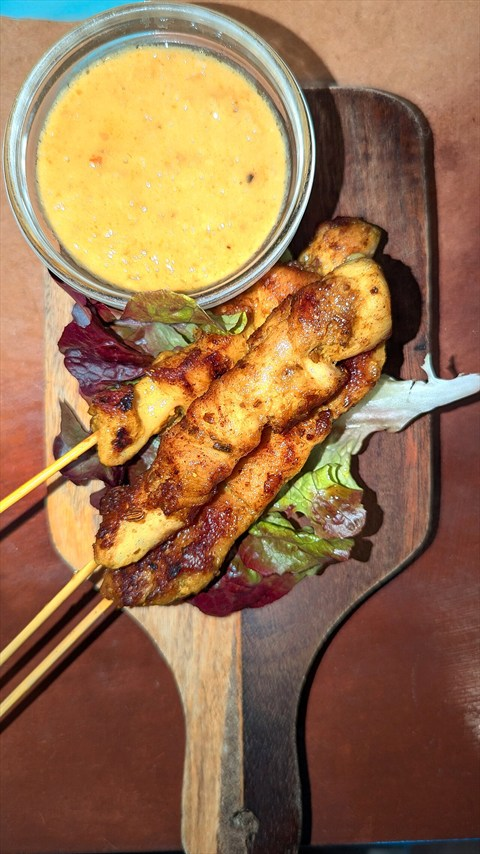Sate Ayam: (28, 98, 398, 656)
